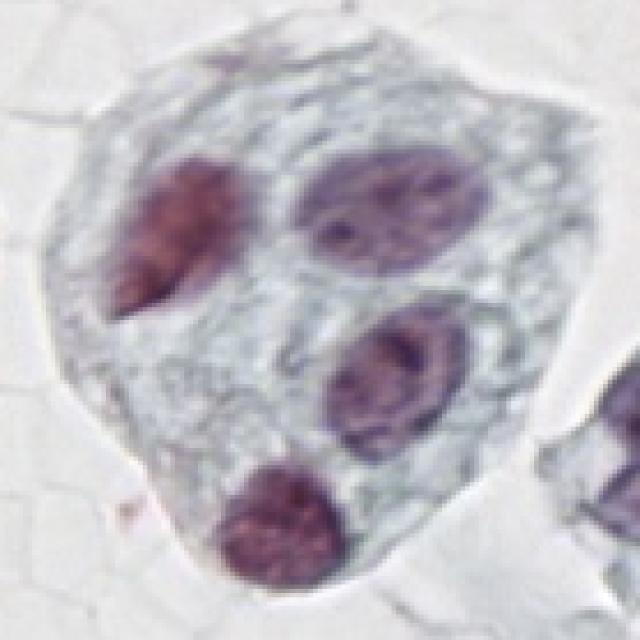nucleus: (65, 110, 289, 362), (285, 276, 509, 487), (196, 436, 385, 623), (284, 132, 509, 289)
